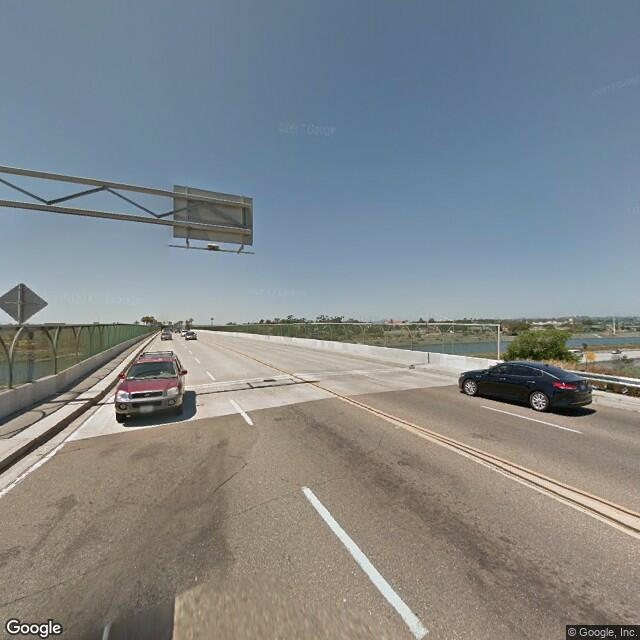litter: (619, 386, 628, 394)
